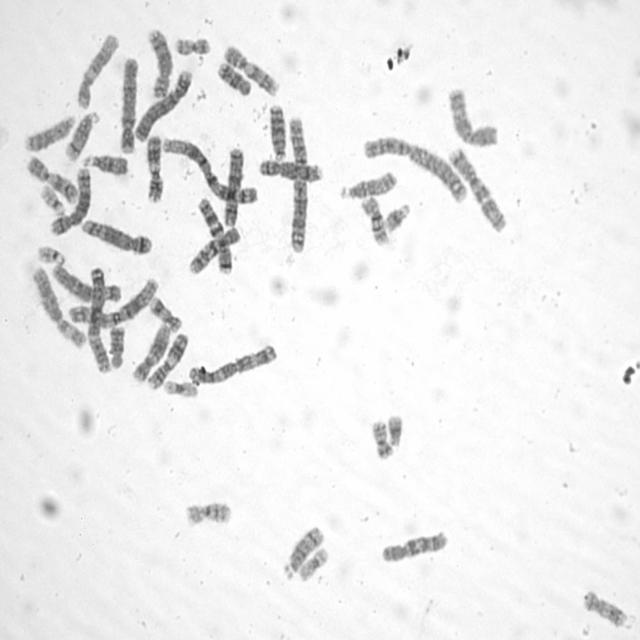A1: (157, 132, 259, 206), (64, 272, 162, 328)
A2: (359, 131, 469, 204), (284, 111, 309, 254)
A3: (184, 338, 279, 386), (84, 262, 112, 375)
B4: (130, 65, 194, 142), (115, 52, 140, 154)
B5: (46, 162, 92, 237), (77, 214, 153, 256)
C10: (184, 221, 242, 276), (376, 525, 449, 565)
C11: (143, 327, 189, 391), (142, 130, 164, 204)
C12: (71, 27, 119, 110), (128, 317, 171, 383)
C6: (28, 262, 87, 350), (48, 258, 123, 304)
C7: (444, 142, 508, 234), (194, 194, 233, 275)
C8: (143, 24, 173, 100), (255, 154, 324, 183)
C9: (220, 39, 280, 98), (22, 150, 79, 206)
D13: (20, 110, 76, 153), (265, 99, 288, 162)
D14: (279, 520, 325, 581), (61, 106, 100, 162)
D15: (336, 166, 398, 200), (78, 148, 129, 176)
E16: (357, 190, 391, 247), (180, 497, 233, 528)
E17: (578, 584, 628, 630), (145, 292, 183, 334)
E18: (214, 56, 252, 97), (105, 321, 126, 370)
F19: (295, 542, 330, 583), (159, 375, 199, 399)
F20: (367, 415, 395, 461), (171, 31, 211, 56)
G21: (381, 198, 411, 234), (383, 408, 404, 448)
G22: (36, 179, 66, 216), (33, 240, 66, 266)
X: (443, 82, 499, 148), (218, 142, 244, 228)
